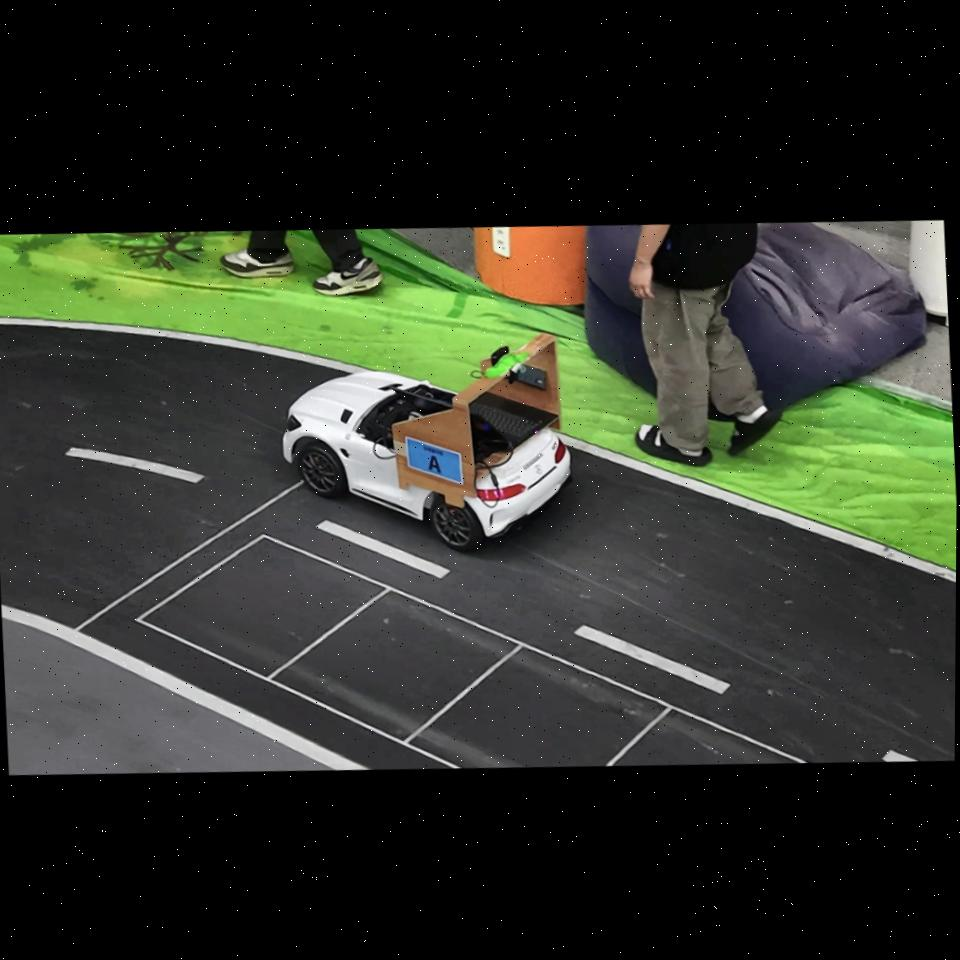broken_line: (573, 625, 731, 694), (315, 520, 451, 579), (65, 447, 205, 483), (881, 750, 918, 761)
